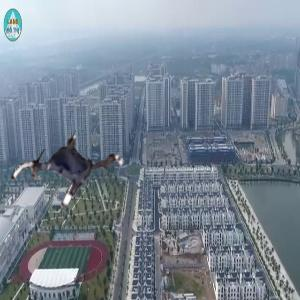drone: (15, 114, 125, 224)
